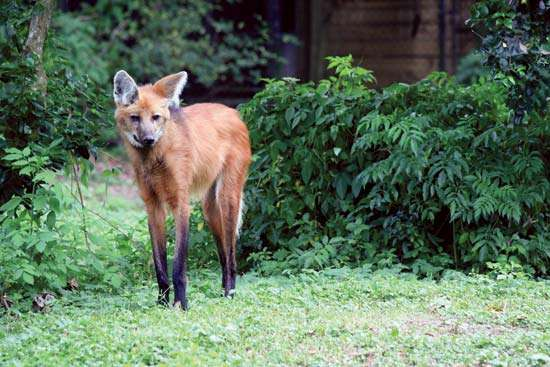LoboGuara: (106, 66, 255, 312)
